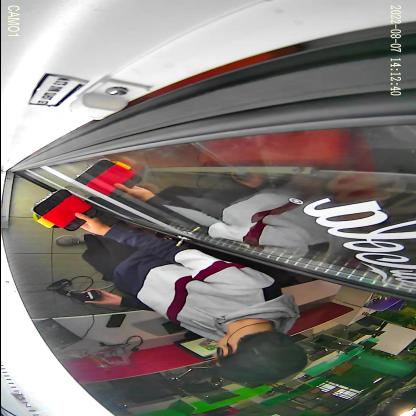red: (30, 188, 98, 232)
yellow: (32, 212, 62, 228)
